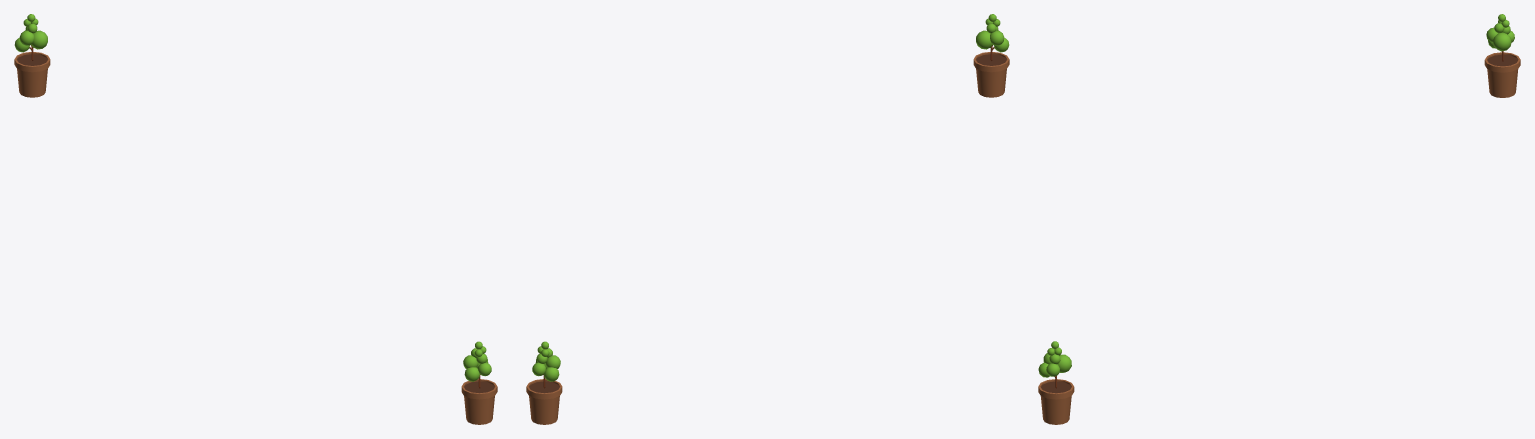
File: Plants.glb
3 views of the same model, side by side, from view 1: azimuth 30°, elevation 25°; view 2: azimuth 150°, elevation 25°; view 3: azimuth 330°, elevation 25° (orthographic).
Visible parts, largest first — view 1: Plants; view 2: Plants; view 3: Plants.
Boxes of the visible parts, box(x1,y1,x2,y2) form: Plants: box(14, 14, 497, 424); Plants: box(526, 14, 1009, 424); Plants: box(1038, 14, 1520, 424).
Size of what is drawn, in the model's own units: 0.8156 by 1.95 by 21.08.
Materials: 1 (1 with a texture image).
